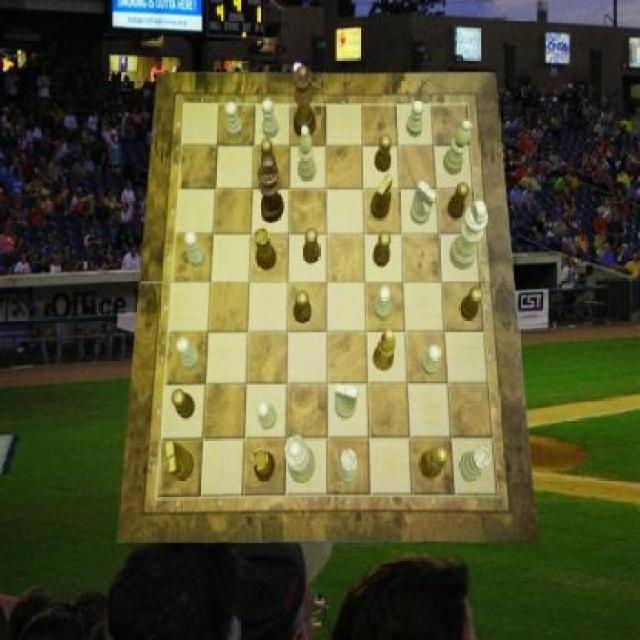bishop: (374, 329, 397, 372), (420, 448, 448, 480)
black-bishop: (258, 157, 286, 223)
black-king: (164, 442, 193, 482), (371, 174, 394, 219)
black-knight: (446, 182, 469, 219), (460, 288, 483, 322), (172, 389, 196, 420), (260, 138, 277, 177), (374, 232, 391, 268), (376, 134, 392, 172), (303, 229, 320, 264), (294, 290, 311, 324)
black-pawn: (294, 65, 317, 139)
black-queen: (255, 228, 278, 270), (254, 448, 277, 482)
black-rook: (443, 119, 471, 174), (298, 125, 318, 182)
white-bishop: (451, 200, 488, 271)
white-king: (410, 182, 438, 226), (336, 383, 358, 418)
white-knight: (176, 337, 200, 371), (186, 231, 206, 268), (263, 100, 280, 140), (406, 99, 424, 136), (422, 345, 442, 377), (225, 102, 242, 139), (256, 400, 276, 431), (374, 285, 391, 319)
white-pawn: (286, 434, 317, 483)
white-queen: (460, 448, 492, 482), (337, 449, 360, 484)
